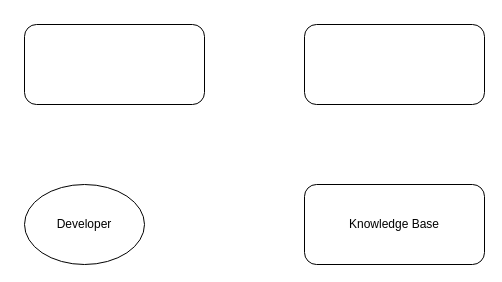
This 502x282 diagram has some shape labels left out. Here are the shapes that lost their labels. From the top down, the centre of each, then its label:
At point 114,64: "VS Code Extension".
At point 394,64: "Backend Indexer Service".
